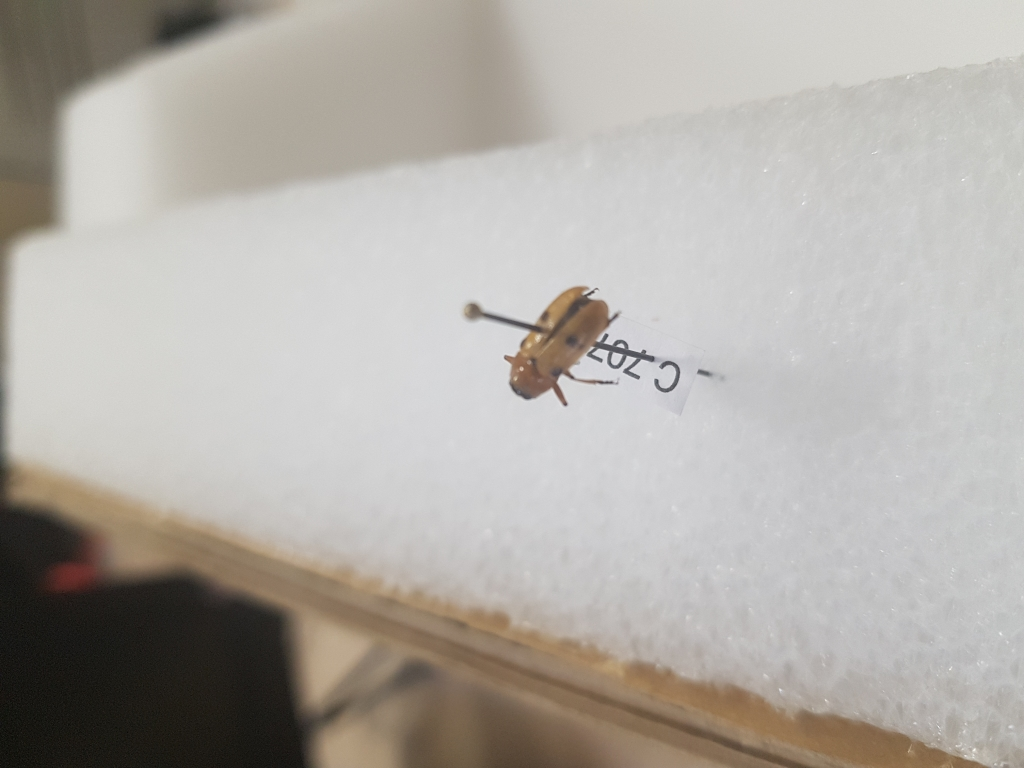Tituboea_macropus: (502, 283, 619, 416)
